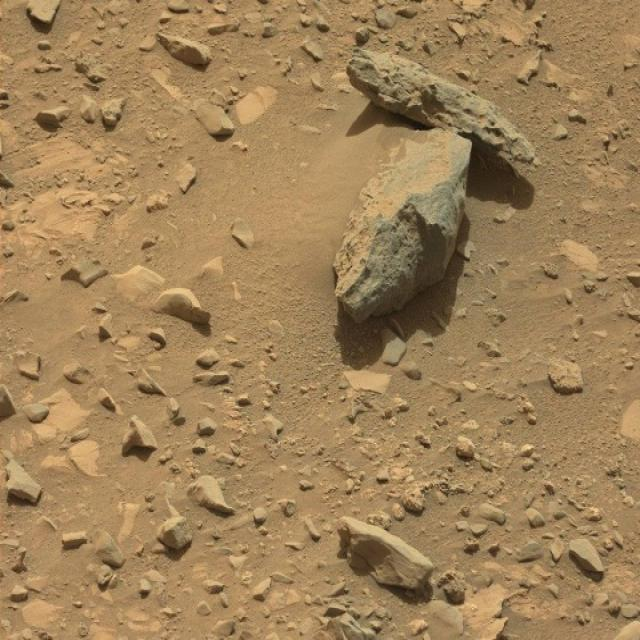mars-rocks: (334, 129, 473, 322), (347, 48, 536, 168), (339, 517, 434, 592)
